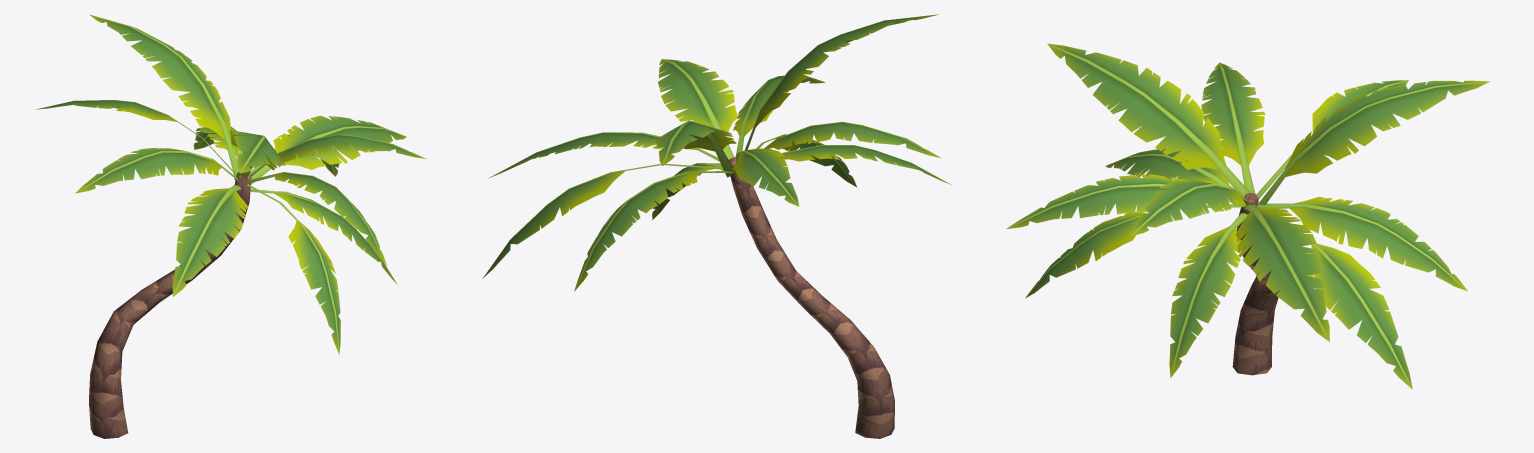
File: palm_tree4.glb
The picture shows the model from 3 angles, left to right: view 1: azimuth 30°, elevation 25°; view 2: azimuth 150°, elevation 25°; view 3: azimuth 270°, elevation 25°; orthographic projection. The views are drawn at different scales.
Visible parts, largest first — view 1: PalmTree_4; view 2: PalmTree_4; view 3: PalmTree_4.
Part boxes in pixels (box(x1,y1,x2,y2)): PalmTree_4: box(36, 15, 425, 438); PalmTree_4: box(482, 14, 951, 438); PalmTree_4: box(1006, 43, 1490, 389).
Bounding box in the file's own units: 4.75 × 3.65 × 4.95.
2 materials, 2 textured.
